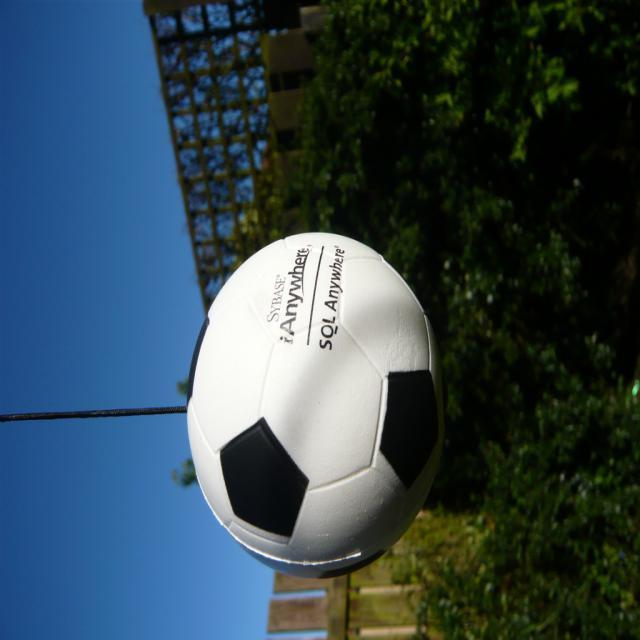football: (145, 228, 479, 592)
